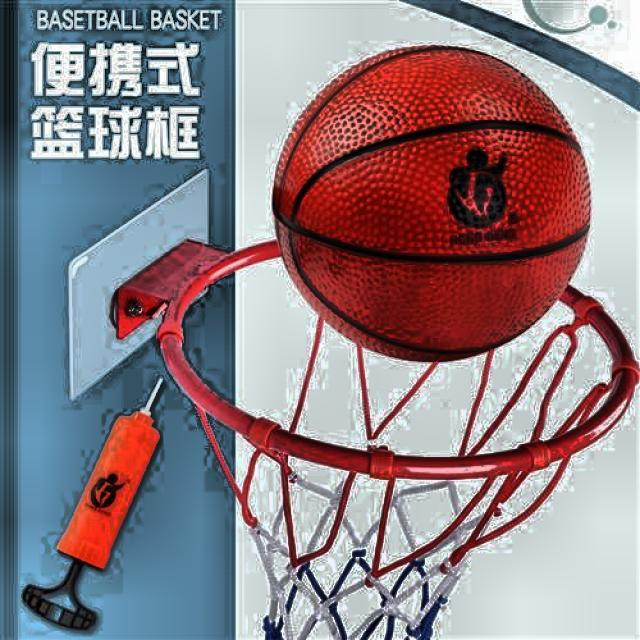board: (273, 43, 594, 361)
rim: (160, 315, 640, 640)
